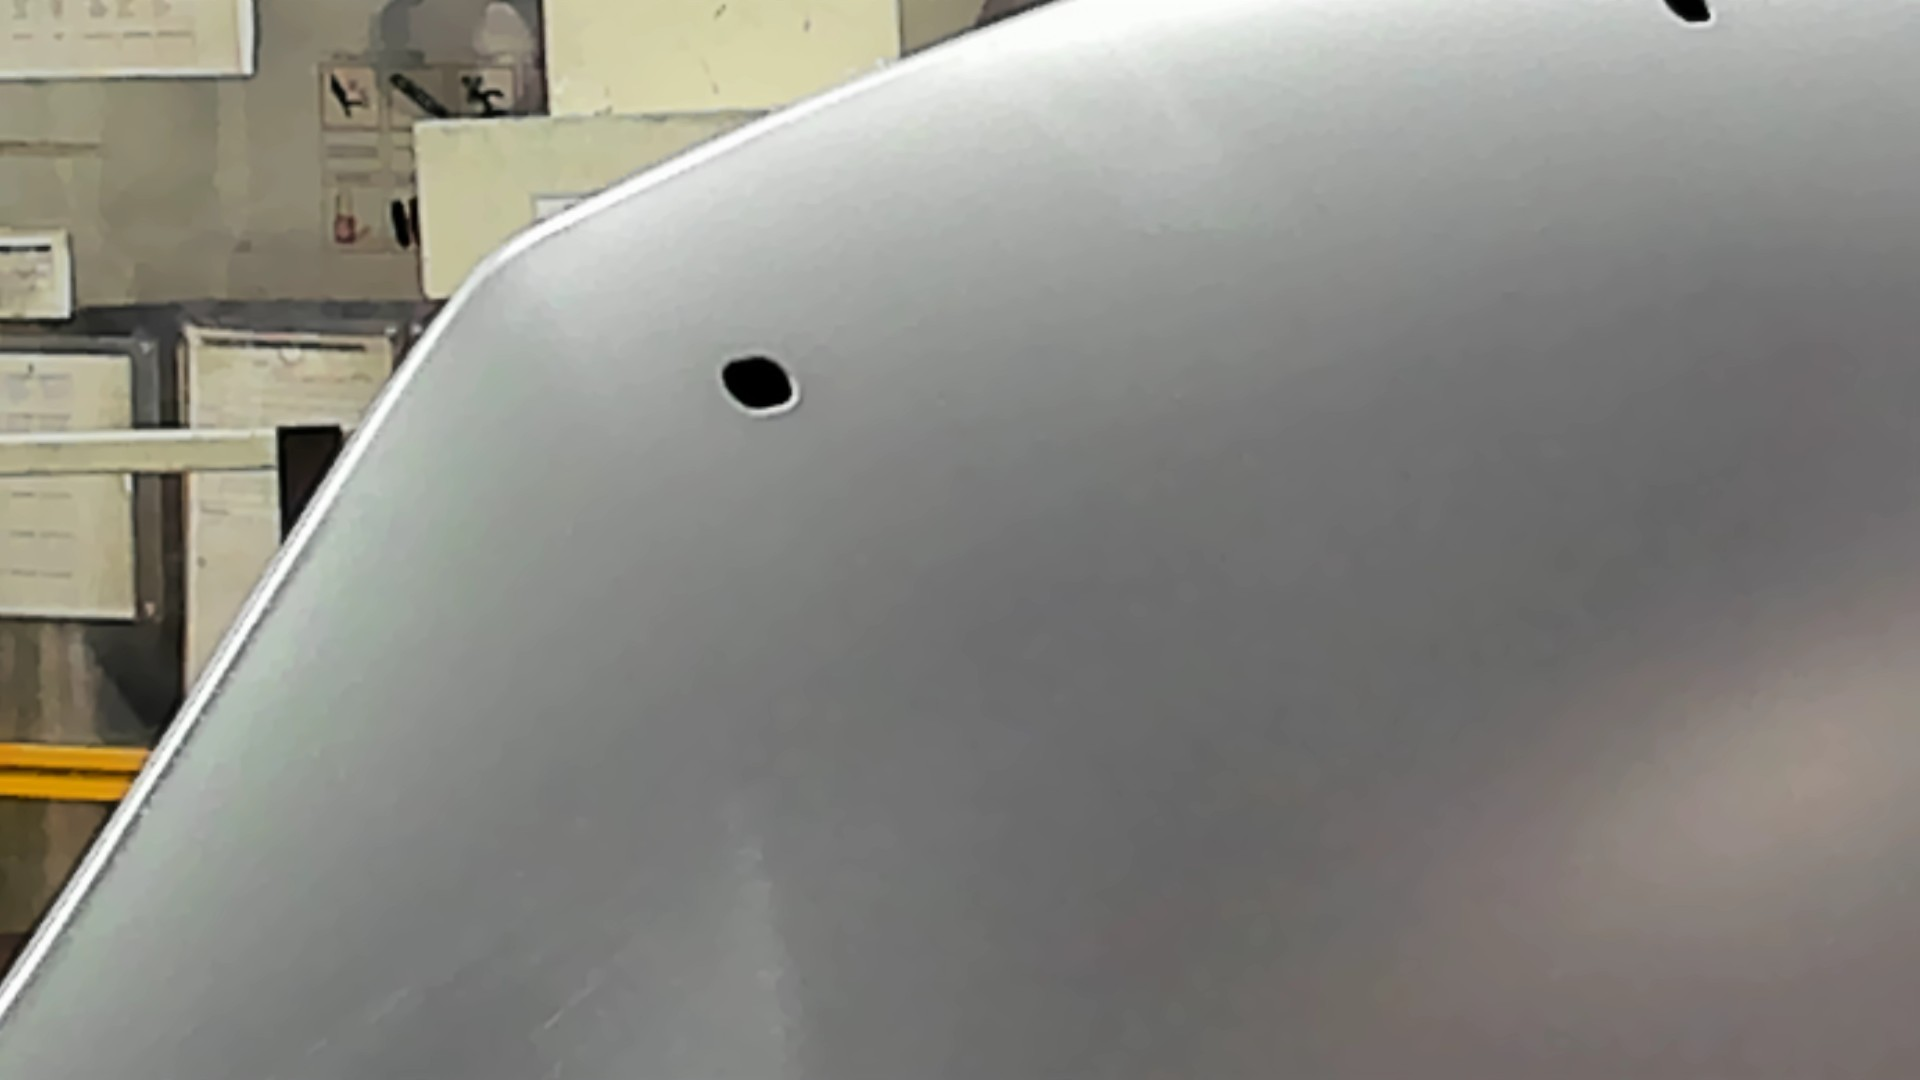amorfo: (715, 345, 807, 419), (1663, 1, 1718, 32)
